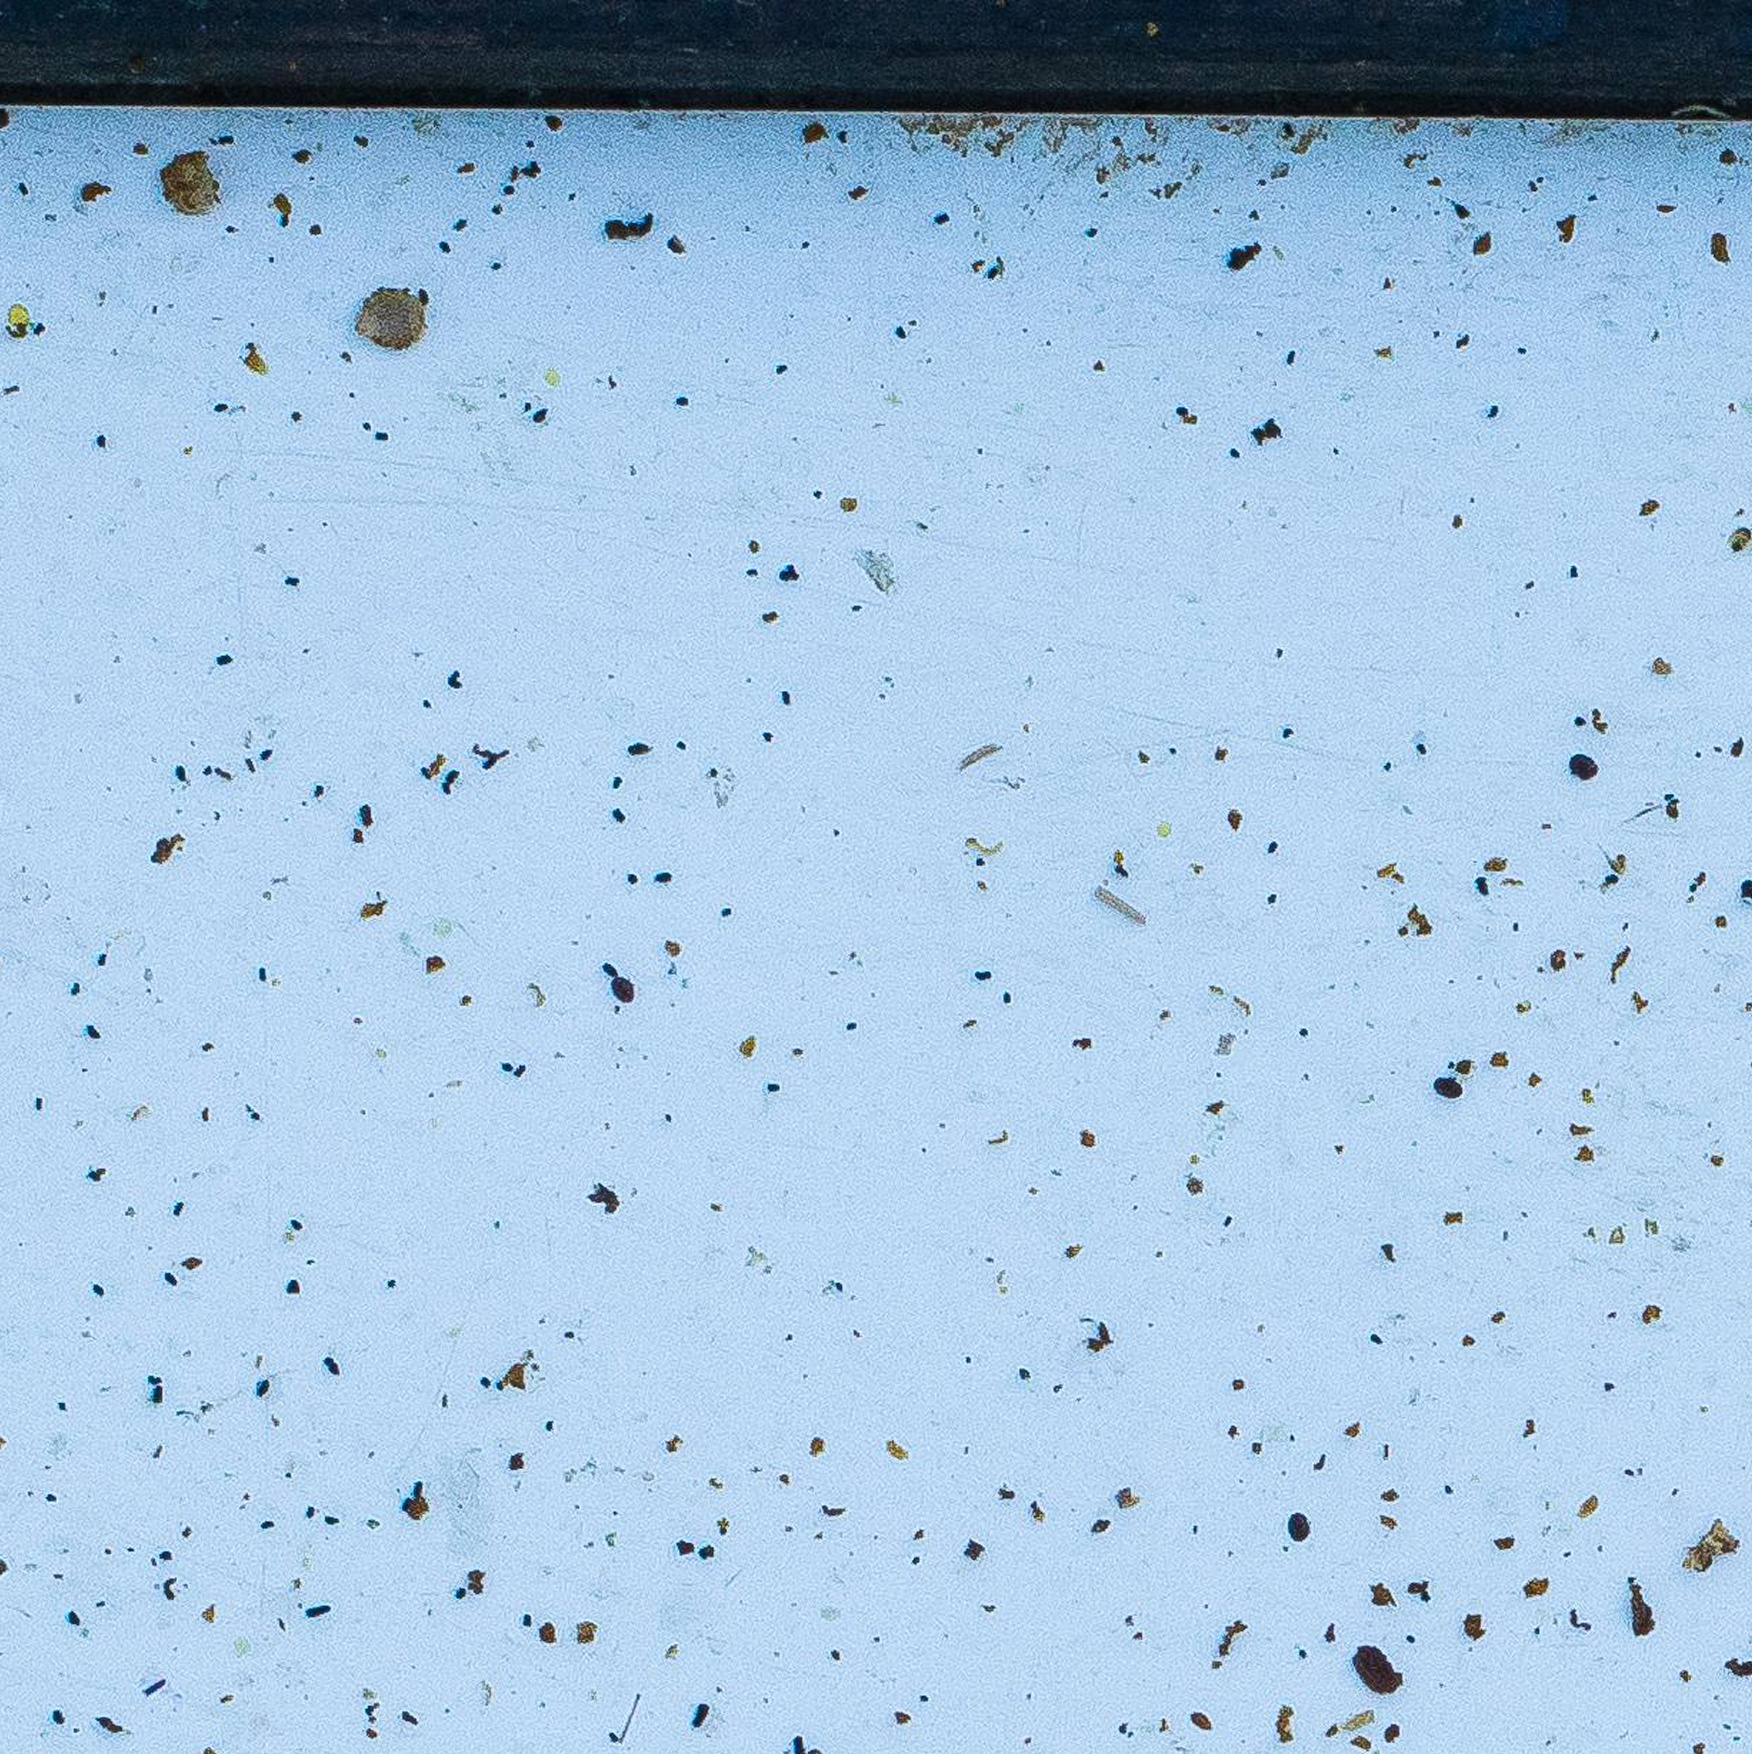Varroa: (1567, 746, 1600, 778), (1284, 1508, 1312, 1539), (610, 981, 637, 1009), (1433, 1080, 1458, 1107)
